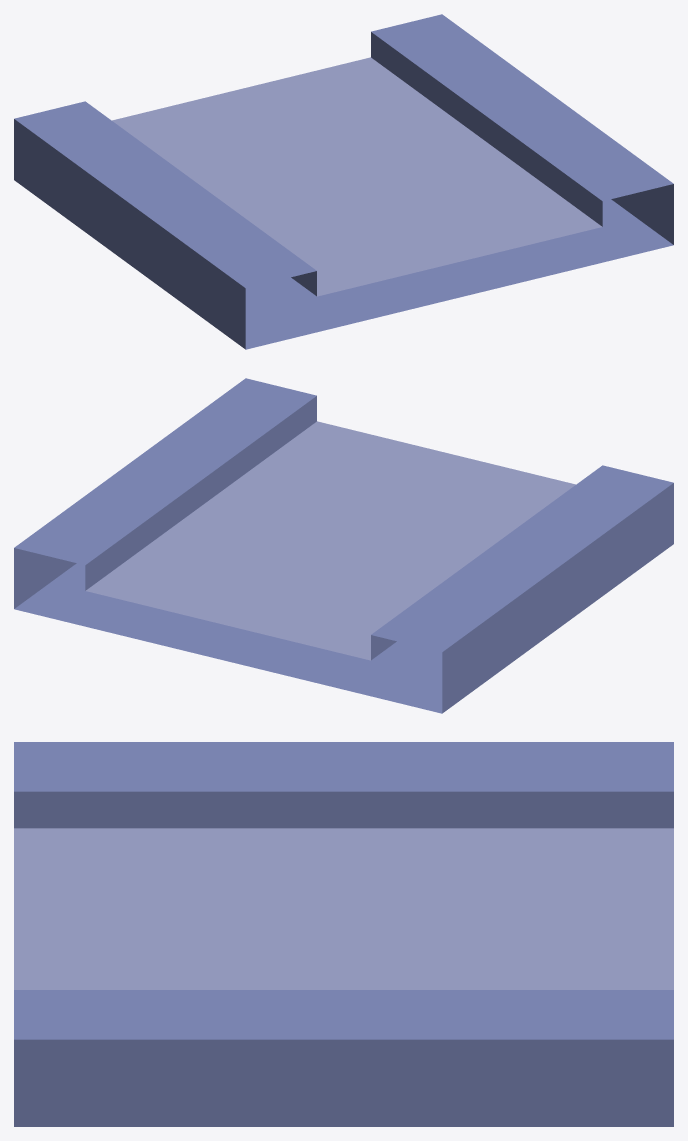
The model's file is bridge_1_part_3.fbx.
The picture shows the model from 3 angles, top to bottom: view 1: azimuth 30°, elevation 25°; view 2: azimuth 150°, elevation 25°; view 3: azimuth 270°, elevation 25°; orthographic projection. The views are drawn at different scales.
Visible parts, largest first — view 1: bridge_1_part_3; view 2: bridge_1_part_3; view 3: bridge_1_part_3.
Boxes of the visible parts, box(x1,y1,x2,y2) form: bridge_1_part_3: box(14, 14, 673, 349); bridge_1_part_3: box(14, 378, 673, 713); bridge_1_part_3: box(14, 742, 673, 1126).
Size of the model in its own units: 9.6 by 1.31 by 9.
